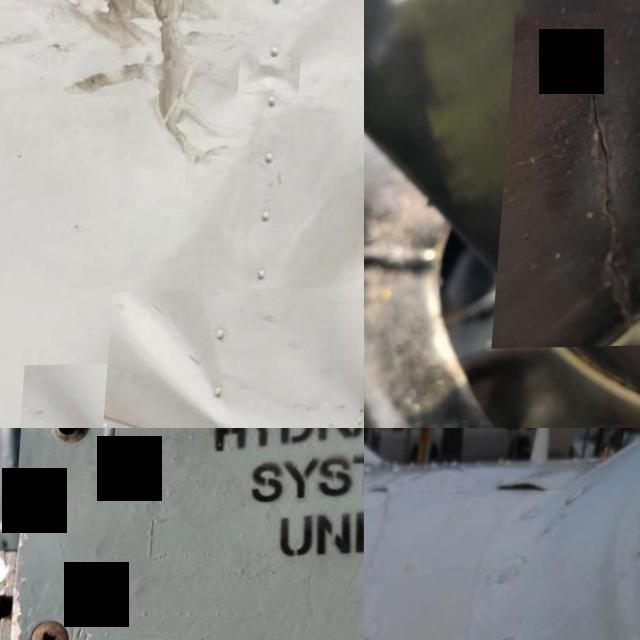Crack: (498, 12, 640, 350)
Dent: (119, 293, 320, 428), (31, 366, 130, 428), (242, 60, 304, 97)
Missing_Fastener: (22, 428, 122, 473)
